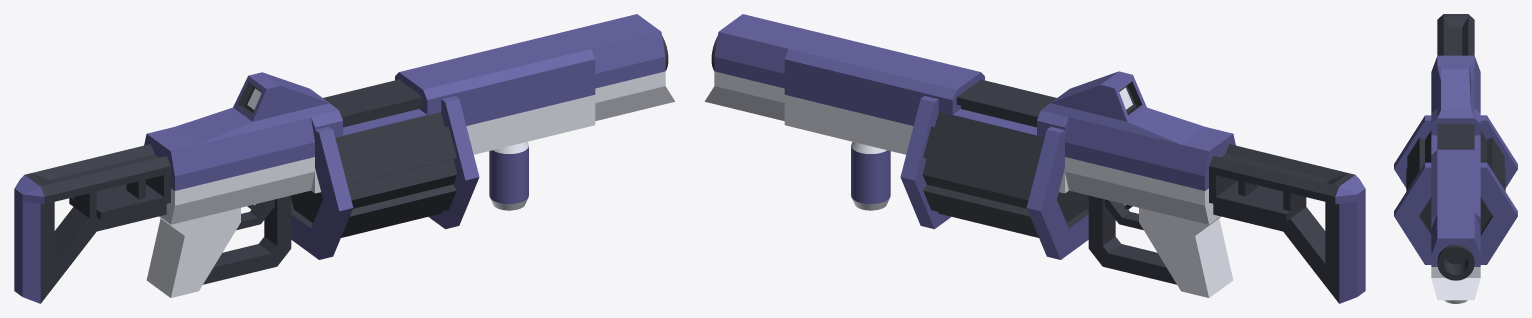
File: BlasterHighCaliber1.obj
3 views of the same model, side by side, from view 1: azimuth 30°, elevation 25°; view 2: azimuth 150°, elevation 25°; view 3: azimuth 270°, elevation 25° (orthographic). The views are drawn at different scales.
Parts seen in each view (by area): view 1: mergedBlocks; view 2: mergedBlocks; view 3: mergedBlocks.
Boxes of the visible parts, x1,y1,x2,y2 form: mergedBlocks: (14,14,674,303); mergedBlocks: (705,14,1365,303); mergedBlocks: (1394,14,1517,303).
Bounding box in the file's own units: 4.6 × 1.25 × 1.
